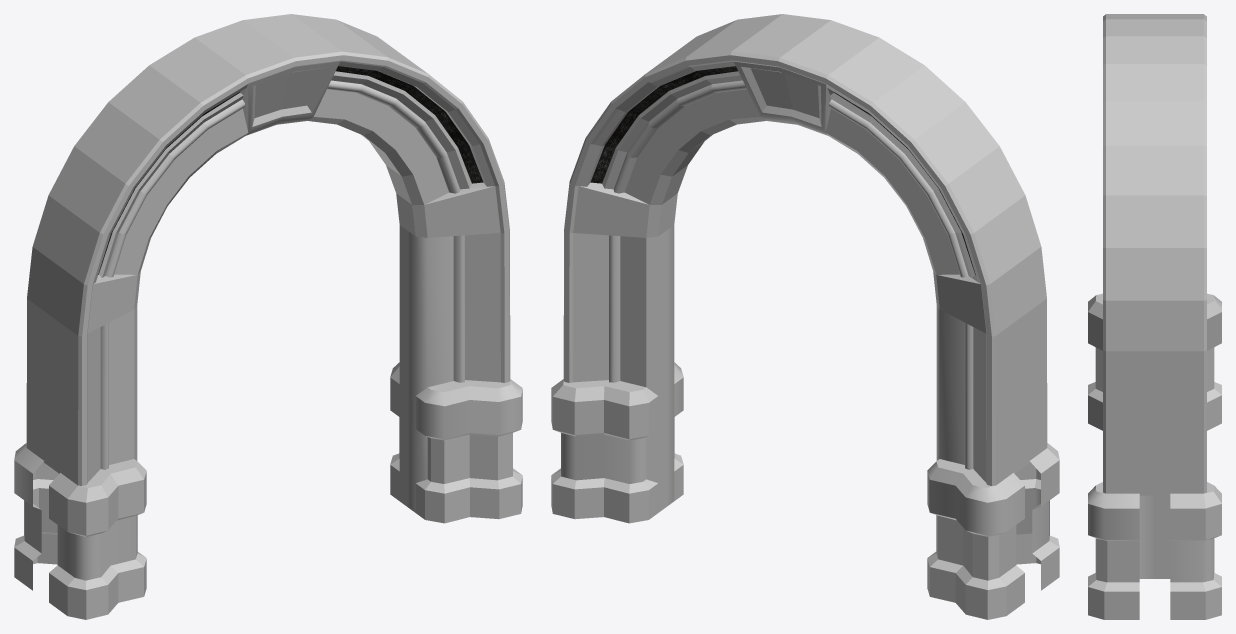
Rendered from door_frame_large_arched.dae.
The picture shows the model from 3 angles, left to right: view 1: azimuth 30°, elevation 25°; view 2: azimuth 150°, elevation 25°; view 3: azimuth 270°, elevation 25°; orthographic projection. The views are drawn at different scales.
Visible parts, largest first — view 1: polySurface141, polySurface145, polySurface150, polySurface149, polySurface148; view 2: polySurface145, polySurface141, polySurface143, polySurface138, polySurface148; view 3: polySurface145, polySurface141.
Part boxes in pixels (box(x1,y1,x2,y2)): polySurface141: box(49, 32, 522, 619); polySurface145: box(14, 14, 407, 590); polySurface150: box(105, 80, 460, 277); polySurface149: box(100, 235, 464, 469); polySurface148: box(98, 66, 483, 274); polySurface145: box(551, 32, 1024, 619); polySurface141: box(666, 14, 1059, 590); polySurface143: box(613, 80, 968, 277); polySurface138: box(609, 235, 973, 469); polySurface148: box(590, 66, 975, 274); polySurface145: box(1155, 14, 1221, 619); polySurface141: box(1088, 14, 1154, 619).
Size of what is drawn, in the model's own units: 621 by 654 by 166.
